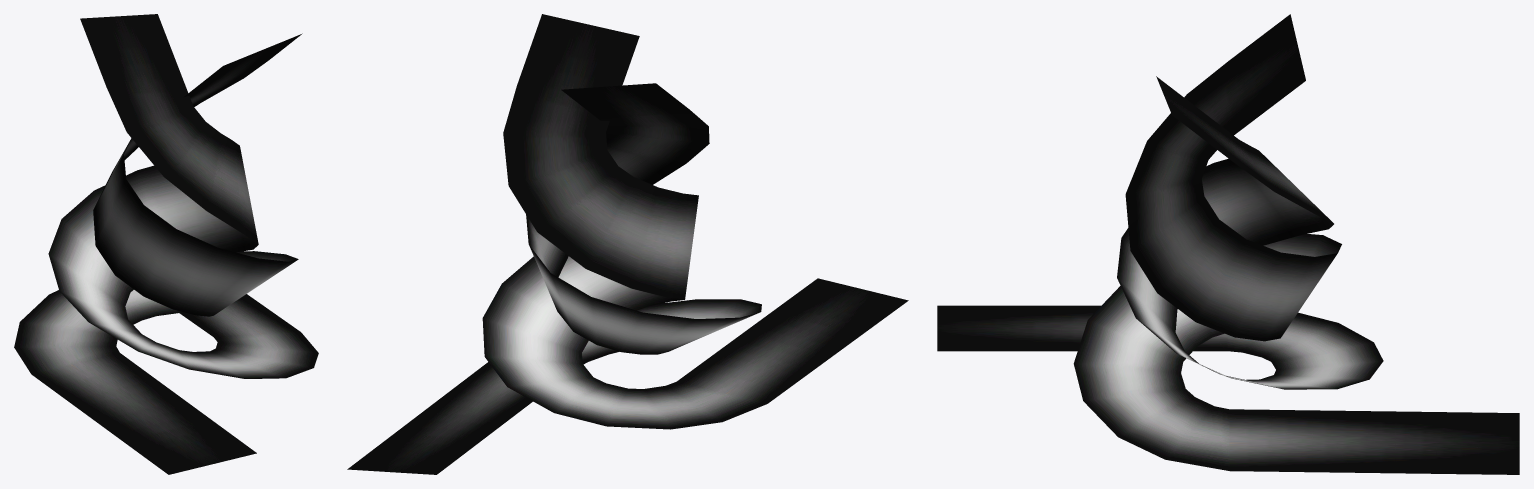
The model's file is vfx_kurp_0369.dae.
3 views of the same model, side by side, from view 1: azimuth 30°, elevation 25°; view 2: azimuth 150°, elevation 25°; view 3: azimuth 270°, elevation 25° (orthographic). The views are drawn at different scales.
Visible parts, largest first — view 1: vfx_kurp_0369; view 2: vfx_kurp_0369; view 3: vfx_kurp_0369.
Boxes of the visible parts, x1=… form: vfx_kurp_0369: x1=14, y1=14, x2=318, y2=474; vfx_kurp_0369: x1=347, y1=14, x2=908, y2=474; vfx_kurp_0369: x1=937, y1=14, x2=1519, y2=474.
Size of the model in its own units: 6.15 by 10.85 by 7.45.
Materials: 1 (1 with a texture image).
